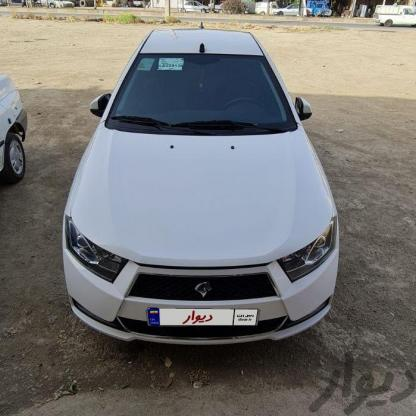Car: (68, 32, 344, 350), (0, 61, 30, 190), (371, 0, 416, 31), (302, 0, 337, 24), (175, 0, 219, 15), (249, 0, 281, 15), (29, 0, 78, 9), (272, 2, 302, 16)
